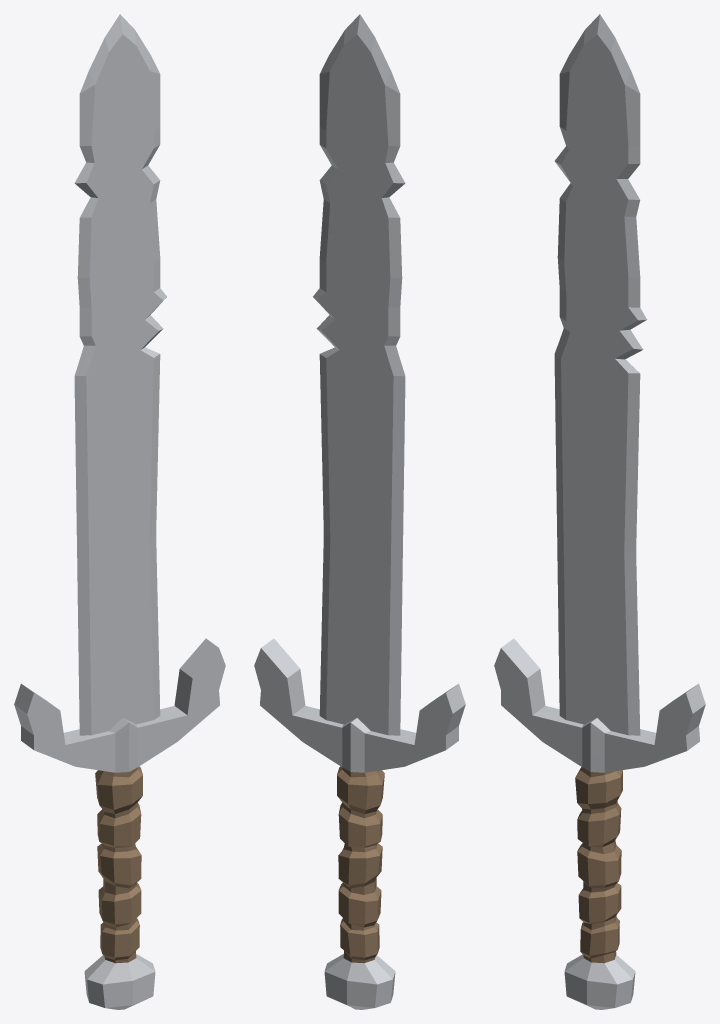
The model's file is weapon_rusty_blade.glb.
3 views of the same model, side by side, from view 1: azimuth 30°, elevation 25°; view 2: azimuth 150°, elevation 25°; view 3: azimuth 330°, elevation 25° (orthographic).
Parts seen in each view (by area): view 1: rusty_blade; view 2: rusty_blade; view 3: rusty_blade.
Part boxes in pixels (<box>): rusty_blade: <box>14,14,225,1009</box>; rusty_blade: <box>254,14,465,1009</box>; rusty_blade: <box>494,14,705,1009</box>.
Size of the model in its own units: 0.2409 by 1.15 by 0.0551.
